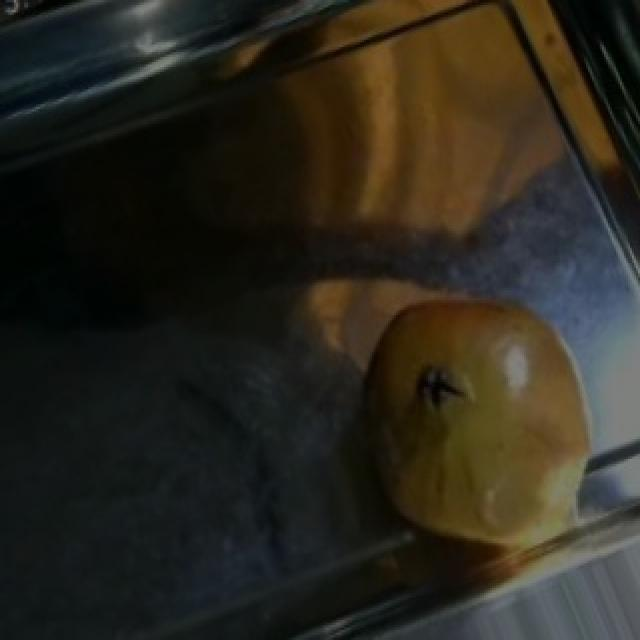fruit: (336, 256, 622, 518)
